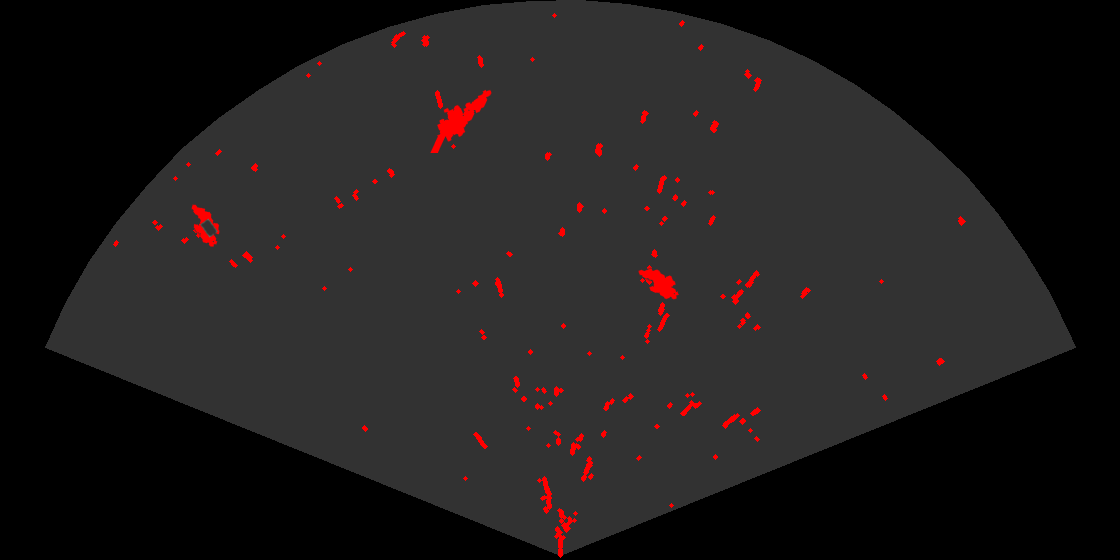AUV: (637, 267, 680, 301), (190, 203, 221, 248)
frogman: (429, 88, 493, 153)
